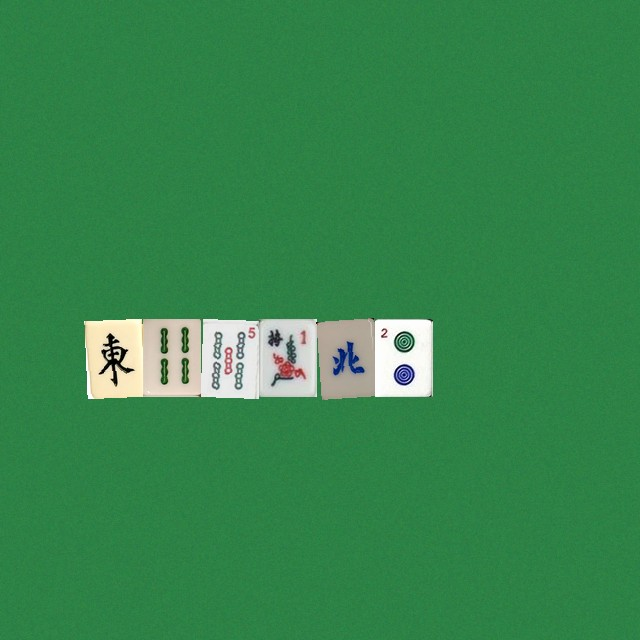tile: (84, 318, 142, 396), (142, 318, 200, 396), (200, 318, 258, 396), (258, 318, 316, 396), (316, 318, 374, 396), (374, 318, 432, 396)
